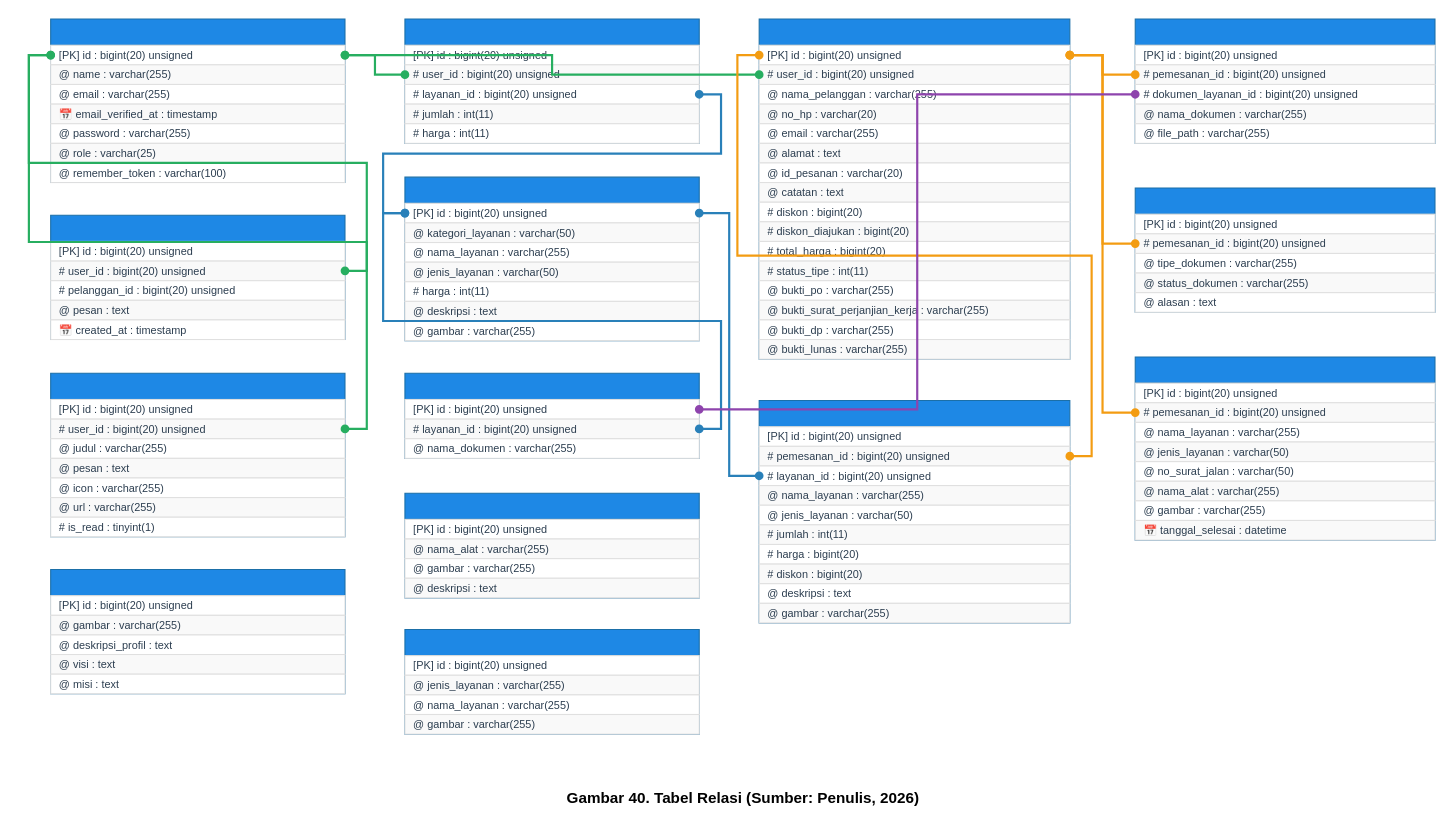
Image size: 1454x834. Some labels were removed from this diagram. Here are the shapes that lost their labels. From the top down, the box of each, then its label:
(50, 18, 345, 183): admin_layanan users
(404, 18, 699, 143): admin_layanan keranjang
(1134, 18, 1435, 143): admin_layanan pemesanan_dokumens
(758, 18, 1070, 359): admin_layanan pemesanan
(404, 176, 699, 341): admin_layanan layanan
(1134, 187, 1435, 312): admin_layanan validasi_dokumen
(50, 214, 345, 340): admin_layanan chat
(404, 372, 699, 458): admin_layanan dokumen_layanans
(50, 372, 345, 537): admin_layanan notifikasis
(1134, 356, 1435, 540): admin_layanan pelaporan_manager_teknisi
(758, 399, 1070, 623): admin_layanan pemesanan_layanan
(404, 492, 699, 598): admin_layanan alat
(50, 568, 345, 694): admin_layanan tentang_kami
(404, 628, 699, 734): admin_layanan dokumentasi_proyek
